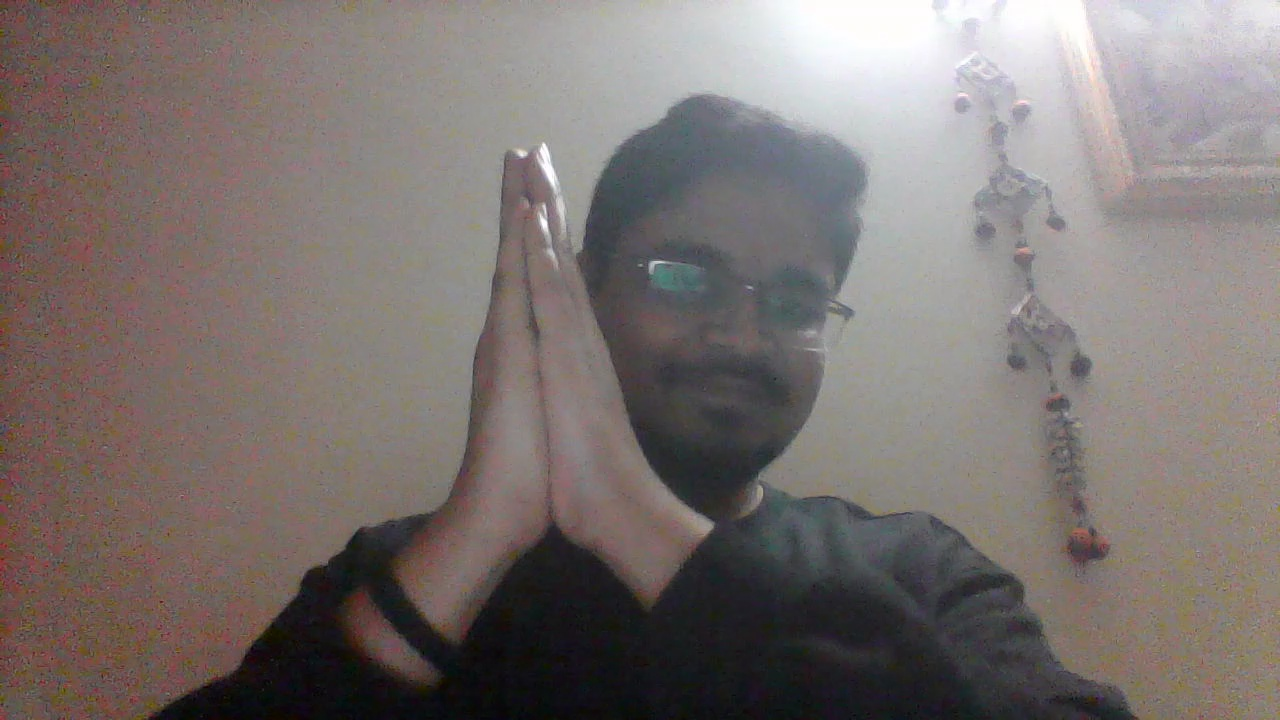Namaste: (429, 141, 644, 603)
